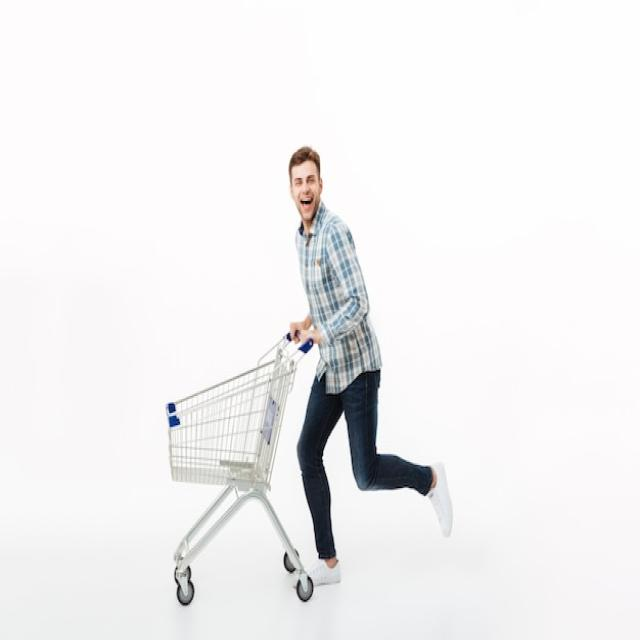Person: (289, 146, 453, 588)
